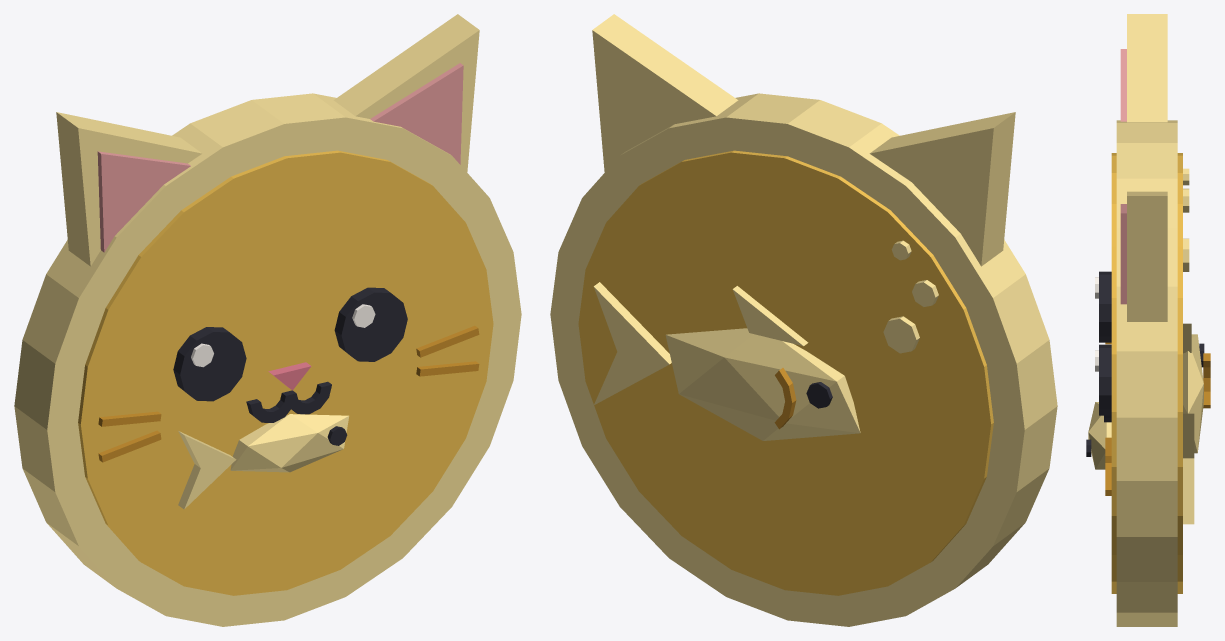
Rendered from CatCafe_Prop_FishCoin.glb.
The picture shows the model from 3 angles, left to right: view 1: azimuth 30°, elevation 25°; view 2: azimuth 150°, elevation 25°; view 3: azimuth 270°, elevation 25°; orthographic projection. The views are drawn at different scales.
Parts seen in each view (by area): view 1: CatCafe_Prop_FishCoin; view 2: CatCafe_Prop_FishCoin; view 3: CatCafe_Prop_FishCoin.
Part boxes in pixels (bbox=[...]): CatCafe_Prop_FishCoin: bbox=[14, 14, 521, 626]; CatCafe_Prop_FishCoin: bbox=[550, 14, 1057, 626]; CatCafe_Prop_FishCoin: bbox=[1086, 14, 1210, 626].
Bounding box in the file's own units: 2 × 2.16 × 0.49.
Materials: 1 (1 with a texture image).
